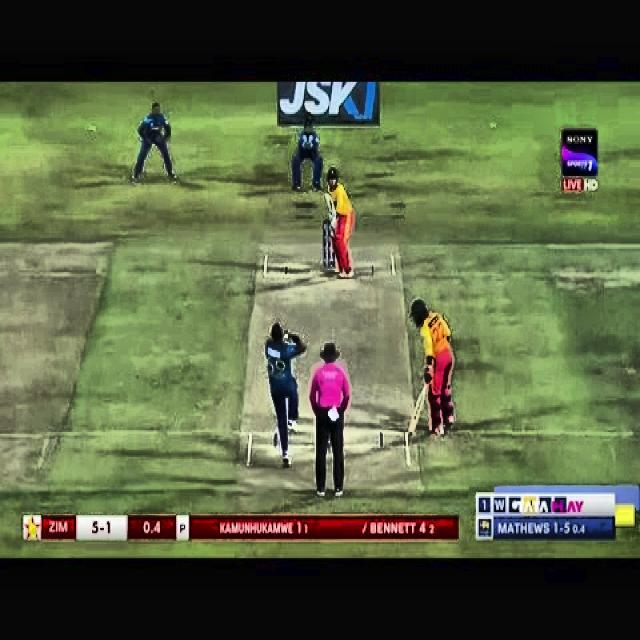Left-stump: (323, 220, 325, 268)
Middle-stump: (328, 220, 330, 267)
Right-stump: (332, 252, 335, 266)
